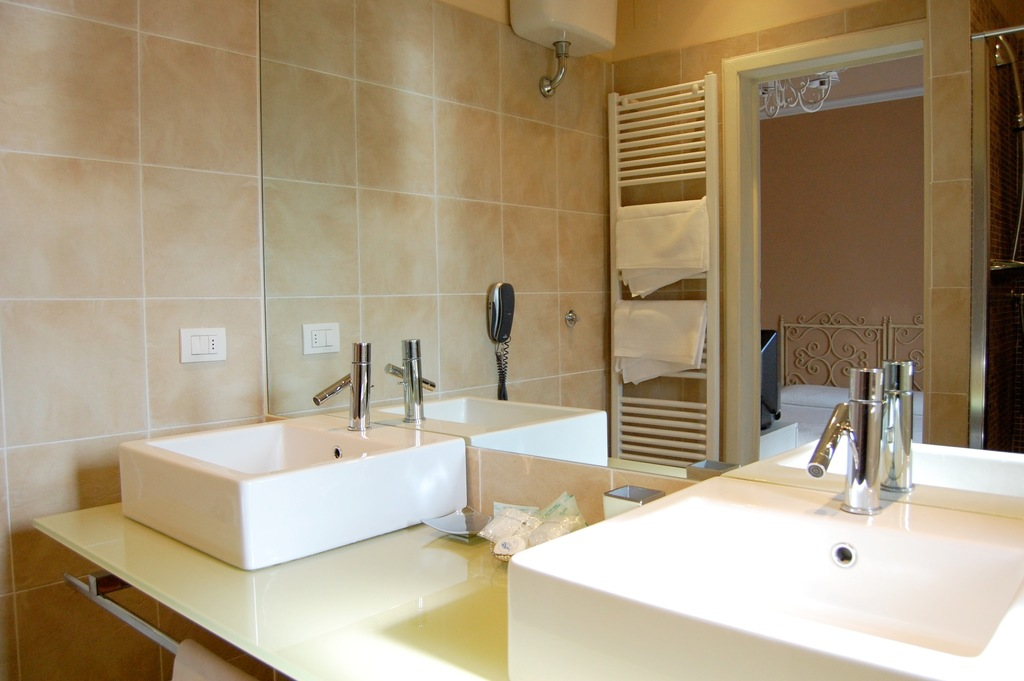tap: (801, 362, 894, 518), (314, 338, 375, 427)
